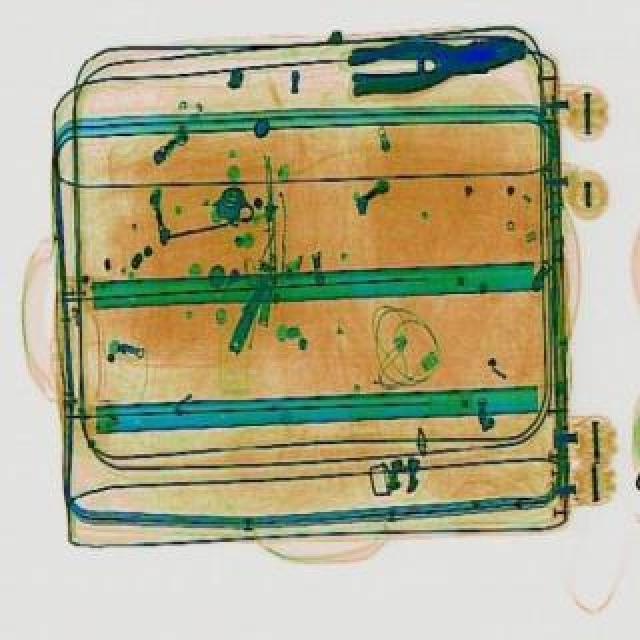wrench: (344, 22, 532, 98)
